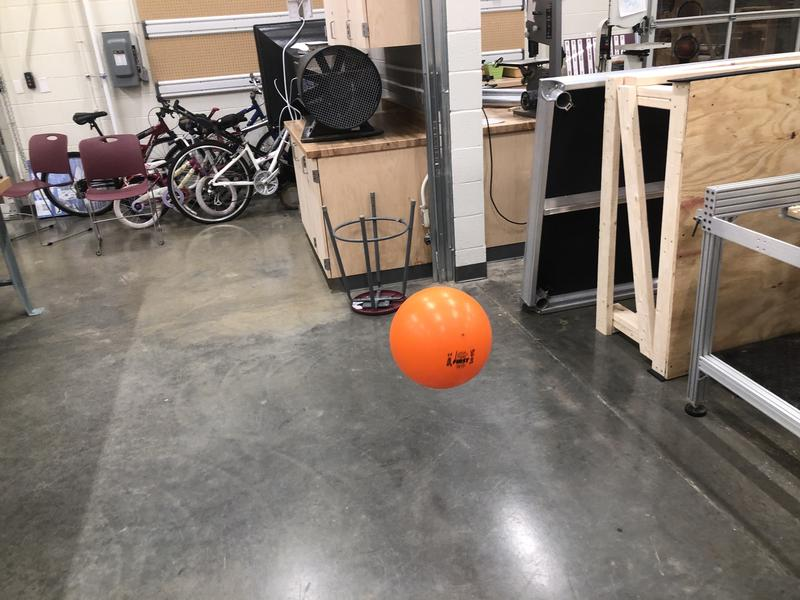ball: (391, 285, 491, 388)
